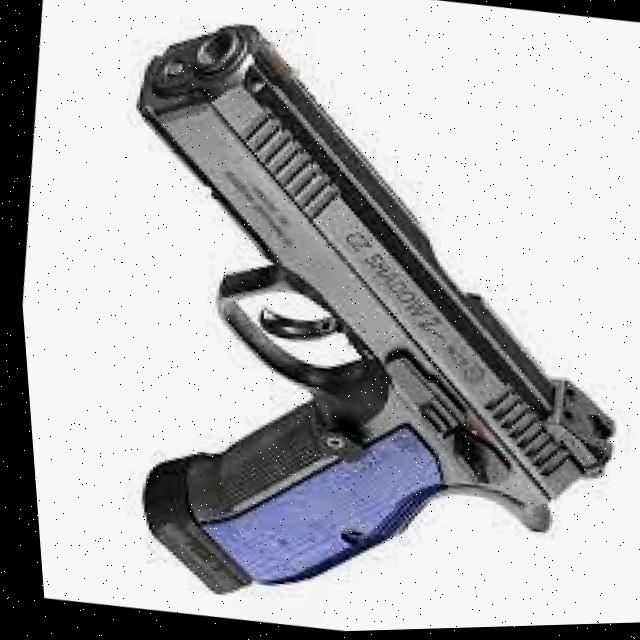gun: (133, 23, 620, 597)
